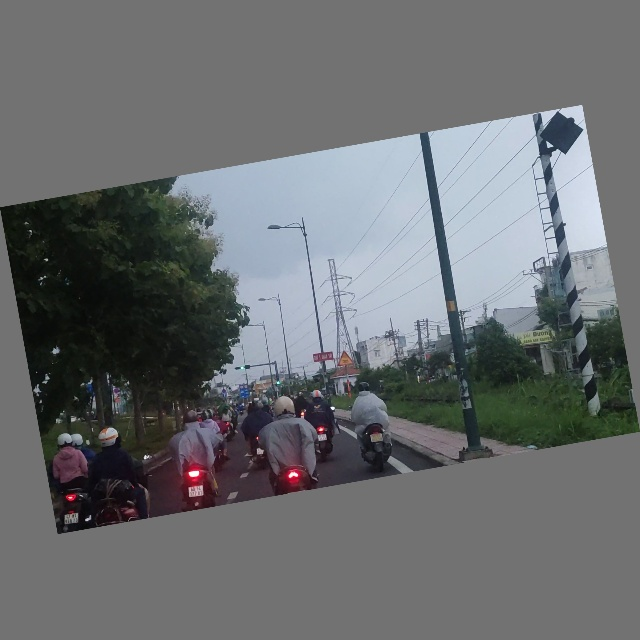W.210: (334, 349, 354, 368)
